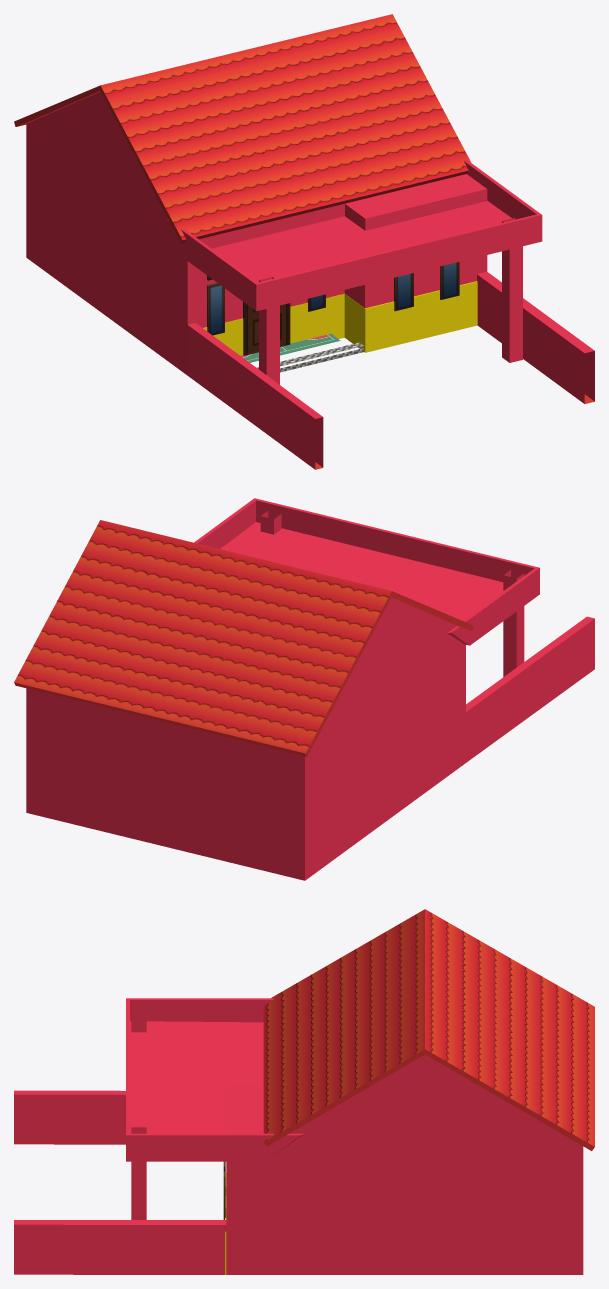
Rendered from Tetangga4.fbx.
3 views of the same model, one above another, from view 1: azimuth 30°, elevation 25°; view 2: azimuth 150°, elevation 25°; view 3: azimuth 270°, elevation 25° (orthographic).
Parts seen in each view (by area): view 1: RumahNPC1_LOD0, RumahWallNPC1_LOD0; view 2: RumahNPC1_LOD0; view 3: RumahNPC1_LOD0.
Part boxes in pixels (x1,y1,x2,y2): RumahNPC1_LOD0: [14, 14, 594, 469]; RumahWallNPC1_LOD0: [203, 281, 477, 355]; RumahNPC1_LOD0: [14, 498, 594, 880]; RumahNPC1_LOD0: [14, 909, 594, 1274].
Size of what is drawn, in the model's own units: 781 by 595 by 1368.
